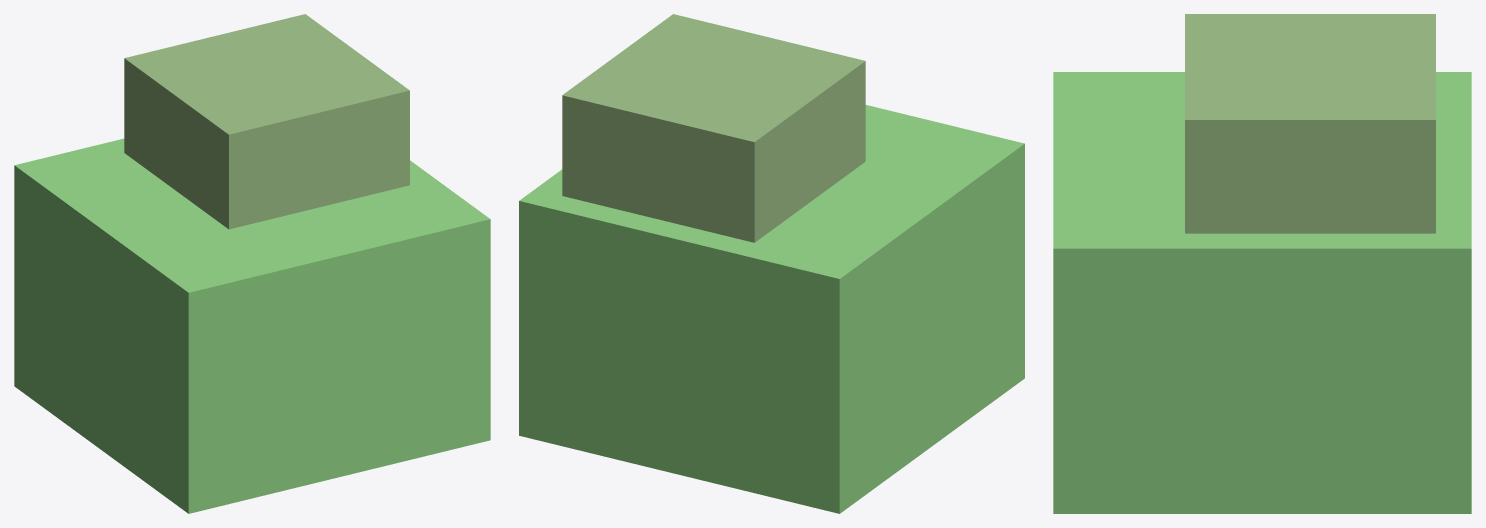
File: Prop_Dress_AMF_Bush_V8.glb
The picture shows the model from 3 angles, left to right: view 1: azimuth 30°, elevation 25°; view 2: azimuth 150°, elevation 25°; view 3: azimuth 270°, elevation 25°; orthographic projection. The views are drawn at different scales.
Visible parts, largest first — view 1: Prop_Dress_AMF_Bush_V8; view 2: Prop_Dress_AMF_Bush_V8; view 3: Prop_Dress_AMF_Bush_V8.
Part boxes in pixels (x1,y1,x2,y2): Prop_Dress_AMF_Bush_V8: [14, 14, 490, 513]; Prop_Dress_AMF_Bush_V8: [519, 14, 1024, 513]; Prop_Dress_AMF_Bush_V8: [1053, 14, 1471, 513].
Bounding box in the file's own units: 0.8712 × 0.8712 × 0.8712.
